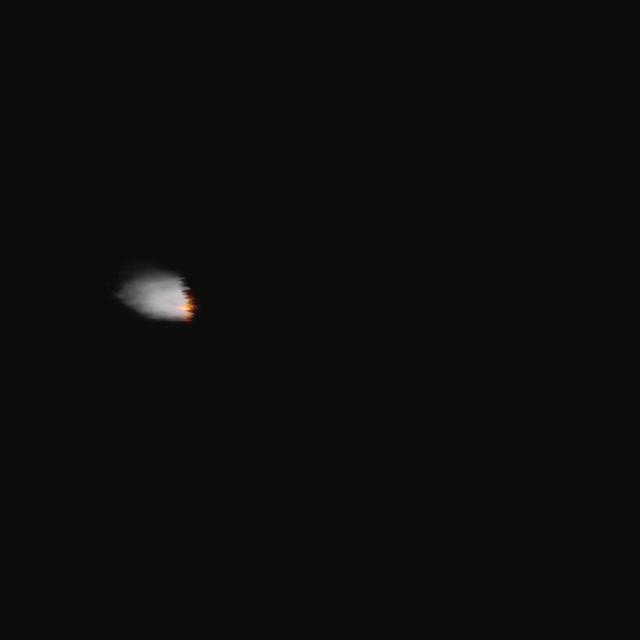fire: (173, 301, 191, 311)
smoke: (115, 268, 184, 320)
